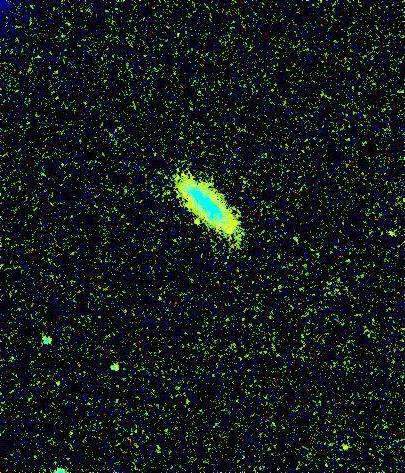star: (178, 209, 208, 239)
